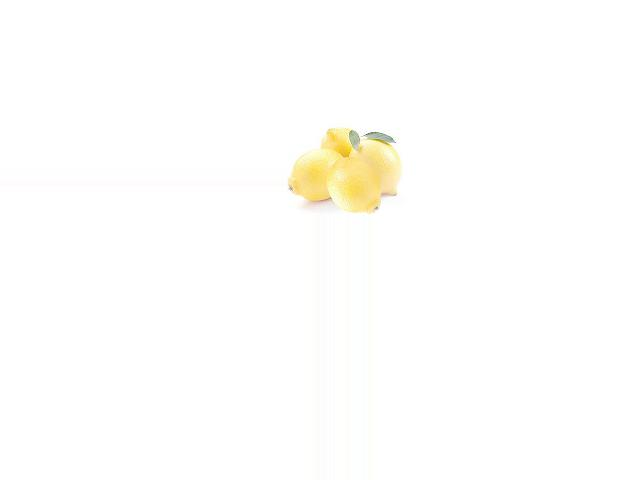lemon: (284, 147, 346, 195)
